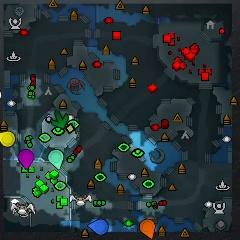p1: (87, 218, 109, 235)
p2: (48, 149, 64, 169)
p3: (18, 149, 34, 170)
p4: (0, 131, 16, 147)
p5: (140, 220, 155, 240)
x4: (51, 110, 69, 129)
